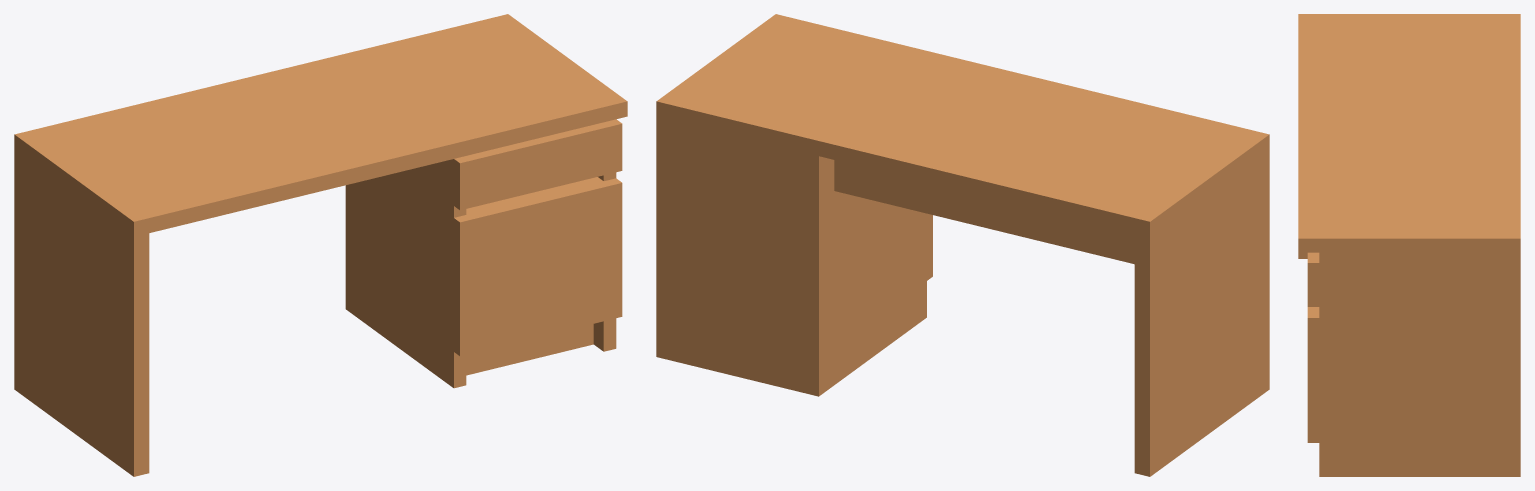
File: Desk.fbx
3 renders of one model, left to right at view 1: azimuth 30°, elevation 25°; view 2: azimuth 150°, elevation 25°; view 3: azimuth 270°, elevation 25°, orthographic. The views are drawn at different scales.
Visible parts, largest first — view 1: Desk; view 2: Desk; view 3: Desk.
Boxes of the visible parts, x1,y1,x2,y2 form: Desk: (14, 14, 627, 476); Desk: (656, 14, 1269, 476); Desk: (1298, 14, 1520, 476).
Bounding box in the file's own units: 1179 × 583 × 494.
